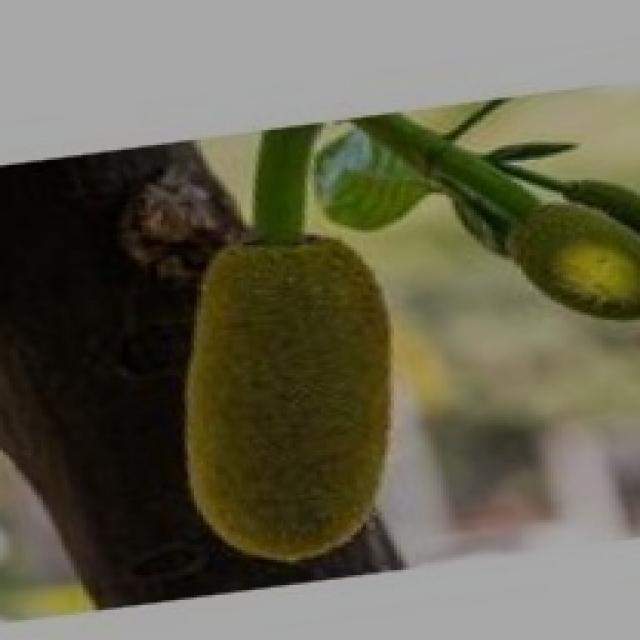Fruit: (129, 202, 443, 580)
